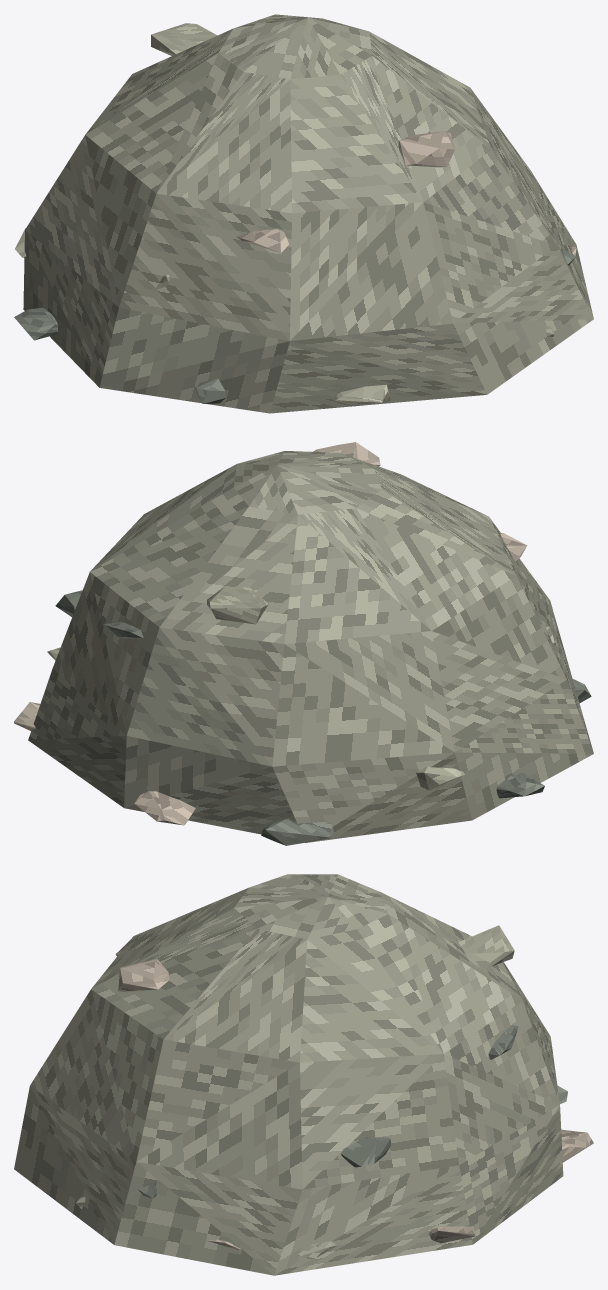
The model's file is f_pebble_mound_short.glb.
3 views of the same model, one above another, from view 1: azimuth 30°, elevation 25°; view 2: azimuth 150°, elevation 25°; view 3: azimuth 270°, elevation 25° (orthographic).
Visible parts, largest first — view 1: block_heaped-pebble, block_loose-pebble (×6); view 2: block_heaped-pebble, block_loose-pebble (×6); view 3: block_heaped-pebble, block_loose-pebble (×5).
Boxes of the visible parts, x1,y1,x2,y2 form: block_heaped-pebble: (23, 14, 593, 413); block_loose-pebble (×6): (14, 23, 454, 405); block_heaped-pebble: (28, 451, 593, 842); block_loose-pebble (×6): (134, 442, 544, 845); block_heaped-pebble: (14, 874, 563, 1275); block_loose-pebble (×5): (118, 925, 593, 1243).
Bounding box in the file's own units: 0.8741 × 0.43 × 0.8605.
Materials: 1 (1 with a texture image).
